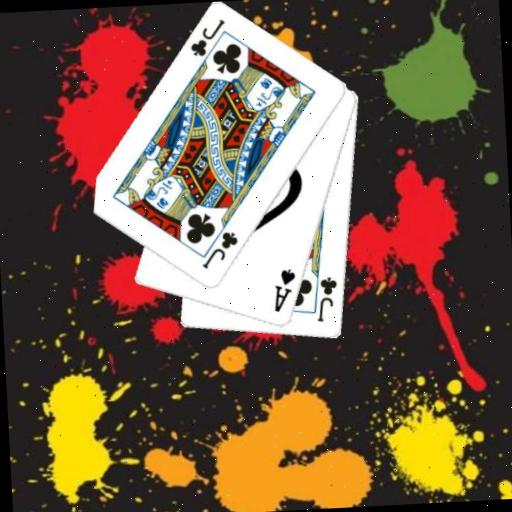AS: (270, 266, 299, 314)
JC: (197, 228, 241, 271), (185, 17, 229, 60), (313, 274, 342, 324)
